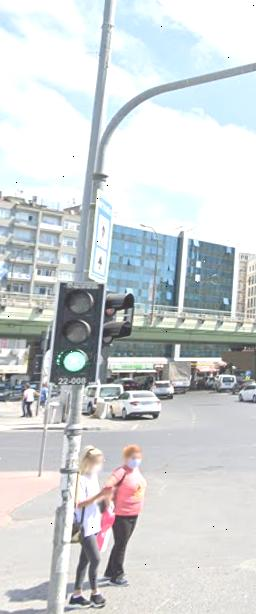greenlight: (52, 282, 97, 379)
